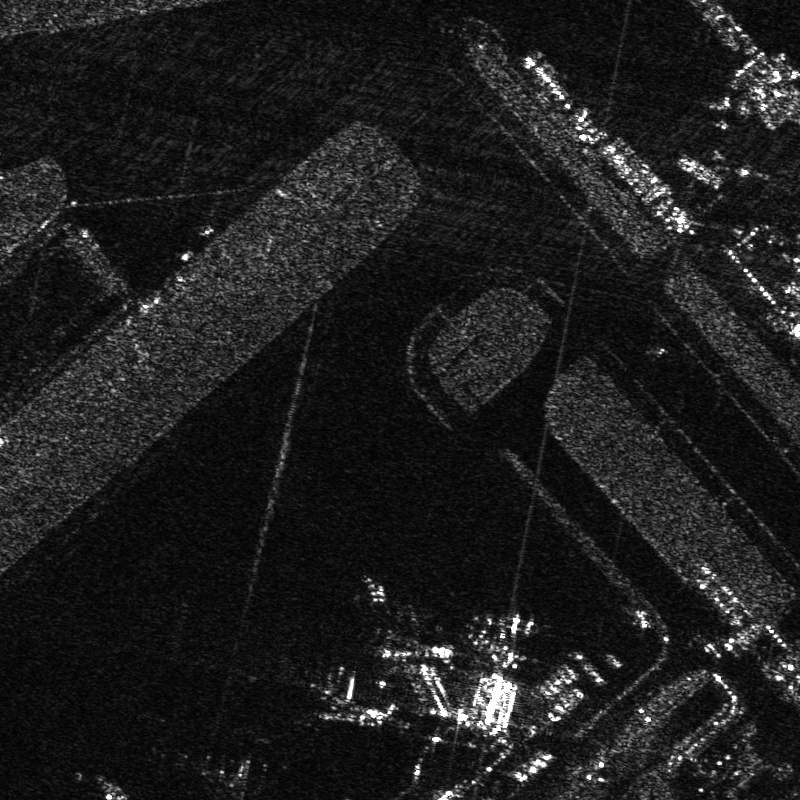Boeing737: (376, 601, 457, 670), (308, 662, 361, 731)
Boeing787: (469, 603, 554, 672)
